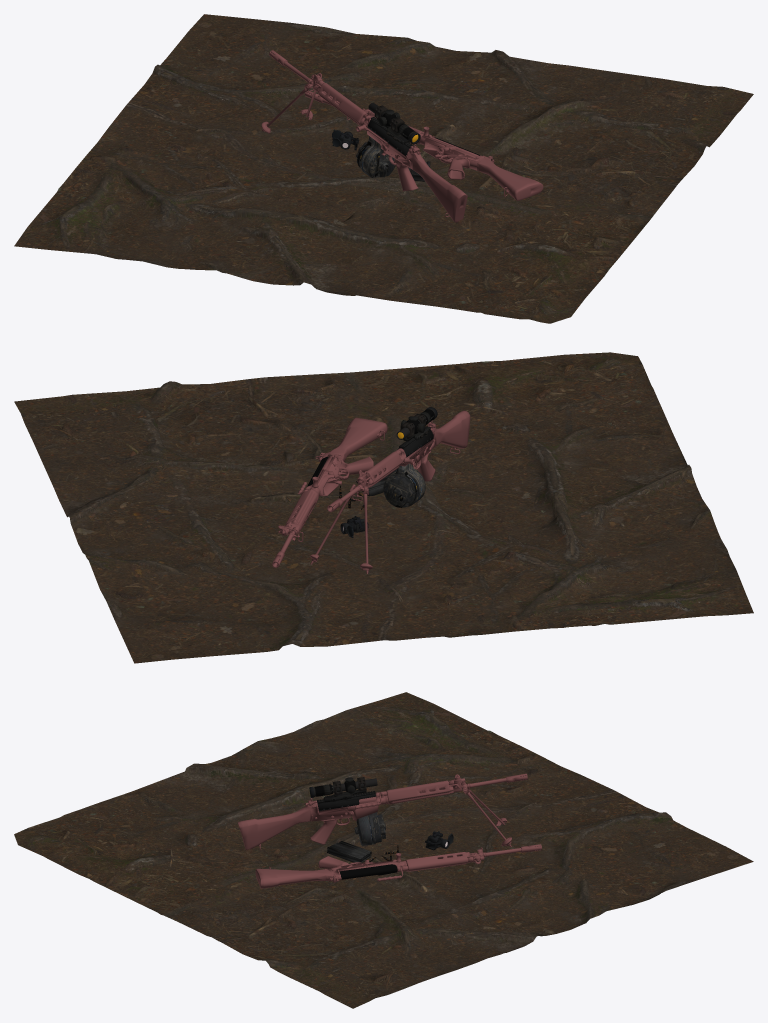
File: Fal_50.fbx
3 renders of one model, top to bottom at view 1: azimuth 30°, elevation 25°; view 2: azimuth 150°, elevation 25°; view 3: azimuth 270°, elevation 25°, orthographic. The views are drawn at different scales.
Parts seen in each view (by area): view 1: 0021_Ground_0, 0017_Plastic_0, 0006_Plastic_0, 0018_polySurface9_0, 0003_Fal_0, 0013_Drum_0, 0014_Scope_0; view 2: 0021_Ground_0, 0006_Plastic_0, 0017_Plastic_0, 0003_Fal_0, 0013_Drum_0, 0018_polySurface9_0, 0014_Scope_0; view 3: 0021_Ground_0, 0017_Plastic_0, 0006_Plastic_0, 0018_polySurface9_0, 0003_Fal_0, 0014_Scope_0, 0013_Drum_0, 0004_Mag_0, 0005_DustCover_0.
Boxes of the visible parts, box(x1,y1,x2,y2) form: 0021_Ground_0: box(14, 14, 753, 323); 0017_Plastic_0: box(318, 83, 467, 222); 0006_Plastic_0: box(370, 112, 543, 200); 0018_polySurface9_0: box(269, 50, 449, 217); 0003_Fal_0: box(305, 91, 509, 196); 0013_Drum_0: box(356, 136, 396, 177); 0014_Scope_0: box(368, 102, 420, 144); 0021_Ground_0: box(14, 352, 753, 663); 0006_Plastic_0: box(285, 417, 387, 530); 0017_Plastic_0: box(367, 410, 470, 487); 0003_Fal_0: box(272, 430, 384, 567); 0013_Drum_0: box(383, 463, 425, 507); 0018_polySurface9_0: box(327, 420, 460, 512); 0014_Scope_0: box(396, 407, 437, 441); 0021_Ground_0: box(14, 692, 753, 1008); 0017_Plastic_0: box(237, 780, 449, 850); 0006_Plastic_0: box(255, 852, 467, 888); 0018_polySurface9_0: box(258, 773, 527, 850); 0003_Fal_0: box(269, 844, 541, 882); 0014_Scope_0: box(309, 777, 377, 802); 0013_Drum_0: box(354, 812, 385, 845); 0004_Mag_0: box(327, 841, 371, 862); 0005_DustCover_0: box(339, 864, 397, 879).
Bounding box in the file's own units: 19.16 × 1.98 × 18.91.
